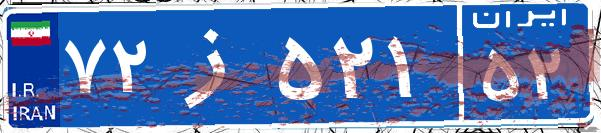1: (385, 28, 445, 110)
2: (330, 28, 385, 110), (110, 28, 158, 105), (525, 38, 570, 115)
5: (273, 28, 330, 110), (475, 38, 525, 113)
7: (57, 26, 110, 107)
ز: (158, 15, 273, 115)
